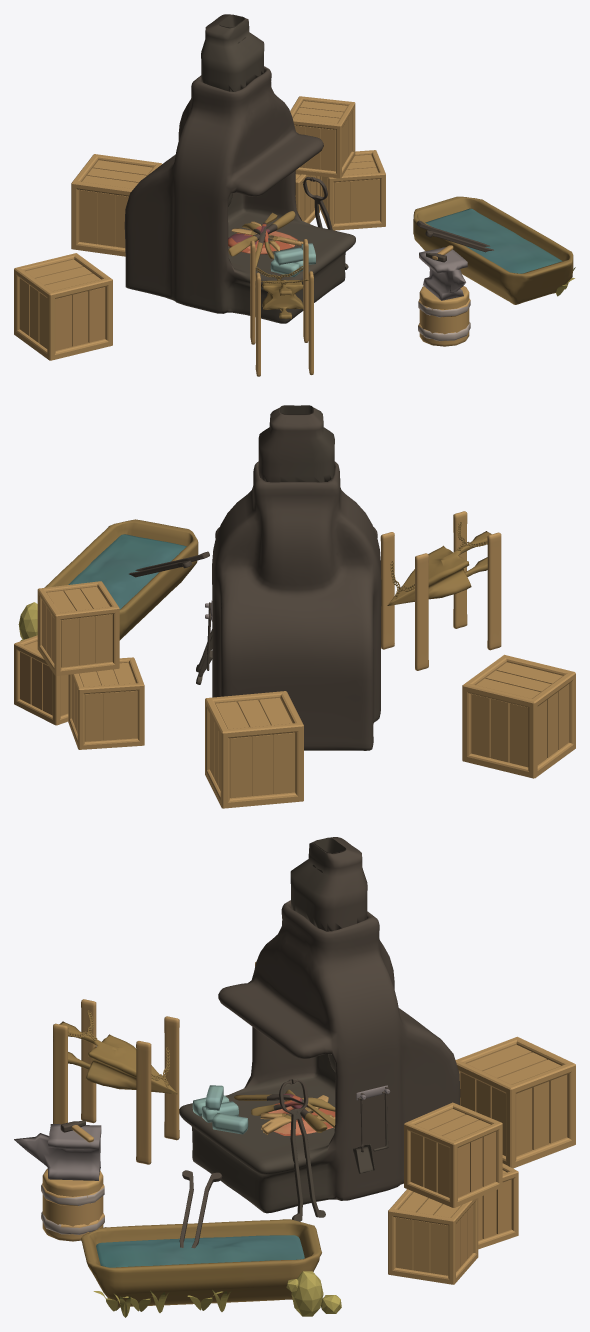
File: forge.glb
3 views of the same model, one above another, from view 1: azimuth 30°, elevation 25°; view 2: azimuth 150°, elevation 25°; view 3: azimuth 270°, elevation 25° (orthographic). The views are drawn at different scales.
Parts seen in each view (by area): view 1: PM3D_Cube3D_2, Cube.086_Material.001_0, Cube.082_Material.001_0, water1, Cube.088_Material.001_0, PM3D_Cube3D1_2, AIR, water, BAREEL, FIRE, Anvil, mETAL (+2 smaller); view 2: PM3D_Cube3D_2, Cube.086_Material.001_0, Cube.082_Material.001_0, Cube.088_Material.001_0, AIR, PM3D_Cube3D1_2, water1, water, HANDMADE, Icosphere.014_Material.001_0; view 3: PM3D_Cube3D_2, Cube.086_Material.001_0, water1, Cube.088_Material.001_0, AIR, PM3D_Cube3D1_2, water, BAREEL, Anvil, FIRE, HANDMADE2, mETAL (+3 smaller).
Part boxes in pixels (<box>): PM3D_Cube3D_2: <box>124,66,355,323</box>; Cube.086_Material.001_0: <box>290,96,385,230</box>; Cube.082_Material.001_0: <box>14,253,112,360</box>; water1: <box>413,196,573,304</box>; Cube.088_Material.001_0: <box>71,154,161,256</box>; PM3D_Cube3D1_2: <box>201,14,264,91</box>; AIR: <box>250,239,313,376</box>; water: <box>425,208,562,273</box>; BAREEL: <box>418,286,470,346</box>; FIRE: <box>228,211,303,267</box>; Anvil: <box>419,247,467,300</box>; mETAL: <box>270,243,315,277</box>; PM3D_Cube3D_2: <box>212,461,381,750</box>; Cube.086_Material.001_0: <box>14,581,144,749</box>; Cube.082_Material.001_0: <box>462,654,575,778</box>; Cube.088_Material.001_0: <box>205,691,303,808</box>; AIR: <box>380,511,501,670</box>; PM3D_Cube3D1_2: <box>258,405,334,482</box>; water1: <box>44,519,198,640</box>; water: <box>68,534,186,609</box>; HANDMADE: <box>129,551,209,577</box>; Icosphere.014_Material.001_0: <box>18,602,37,641</box>; PM3D_Cube3D_2: <box>179,900,460,1213</box>; Cube.086_Material.001_0: <box>388,1102,518,1284</box>; water1: <box>81,1219,321,1307</box>; Cube.088_Material.001_0: <box>455,1036,575,1168</box>; AIR: <box>53,999,179,1164</box>; PM3D_Cube3D1_2: <box>290,837,367,931</box>; water: <box>96,1235,304,1267</box>; BAREEL: <box>41,1169,104,1241</box>; Anvil: <box>14,1124,101,1180</box>; FIRE: <box>234,1089,335,1135</box>; HANDMADE2: <box>279,1079,325,1221</box>; mETAL: <box>192,1085,248,1134</box>.
Bounding box in the file's own units: 1.01 × 0.5579 × 0.8594.
Materials: 4 (4 with a texture image).
